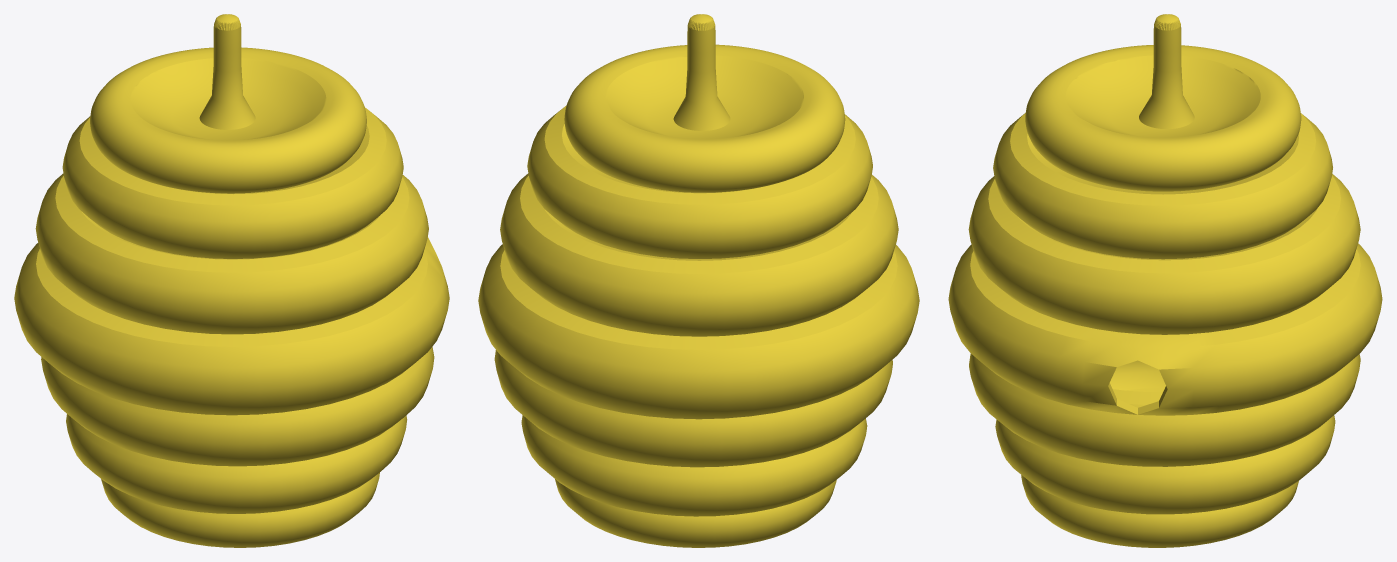
The model's file is beehive.fbx.
The picture shows the model from 3 angles, left to right: view 1: azimuth 30°, elevation 25°; view 2: azimuth 150°, elevation 25°; view 3: azimuth 270°, elevation 25°; orthographic projection.
Visible parts, largest first — view 1: Torus, Torus.003, Torus.001, Torus.002, Torus.004, Torus.005, Torus.006; view 2: Torus, Torus.003, Torus.001, Torus.002, Torus.004, Torus.005, Torus.006; view 3: Torus, Torus.003, Torus.001, Torus.002, Torus.004, Torus.005, Torus.006.
Part boxes in pixels (x1,y1,x2,y2): Torus: (14,237,449,415); Torus.003: (90,14,366,193); Torus.001: (35,173,428,334); Torus.002: (62,107,403,258); Torus.004: (41,346,434,466); Torus.005: (66,414,407,513); Torus.006: (101,472,379,547); Torus: (478,244,919,419); Torus.003: (564,14,845,192); Torus.001: (500,173,898,336); Torus.002: (527,106,872,258); Torus.004: (494,350,892,467); Torus.005: (521,415,867,516); Torus.006: (555,479,836,547); Torus: (948,243,1382,415); Torus.003: (1025,14,1301,191); Torus.001: (968,174,1360,334); Torus.002: (993,113,1332,259); Torus.004: (969,353,1360,466); Torus.005: (995,360,1335,514); Torus.006: (1021,475,1298,547).
Size of the model in its own units: 249 by 306 by 250.
